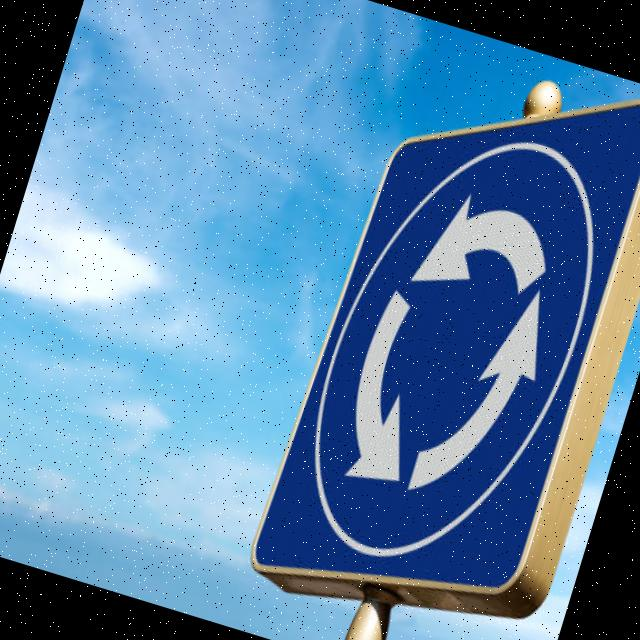round_about: (276, 102, 632, 603)
